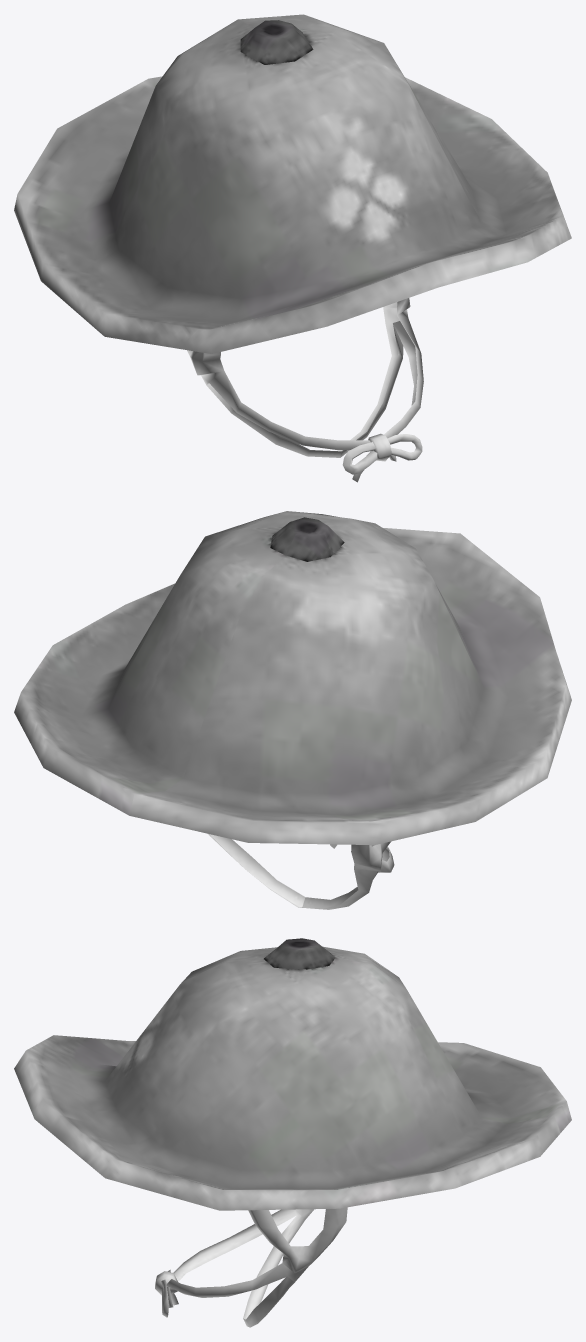
Rendered from helmet-heavyinfantry.glb.
The picture shows the model from 3 angles, top to bottom: view 1: azimuth 30°, elevation 25°; view 2: azimuth 150°, elevation 25°; view 3: azimuth 270°, elevation 25°; orthographic projection. The views are drawn at different scales.
Size of the model in its own units: 0.3769 by 0.3347 by 0.46.
Materials: 1 (1 with a texture image).
